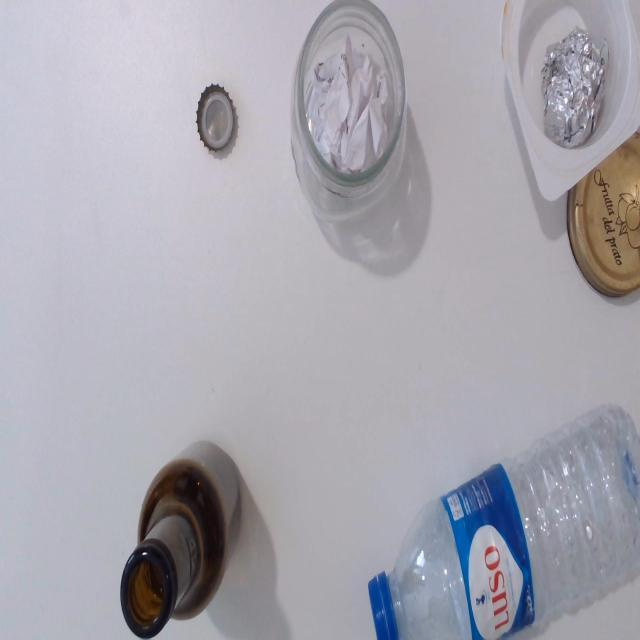Glass: (121, 444, 239, 640)
Paper: (307, 27, 390, 175)
Plastic: (367, 394, 640, 640)
